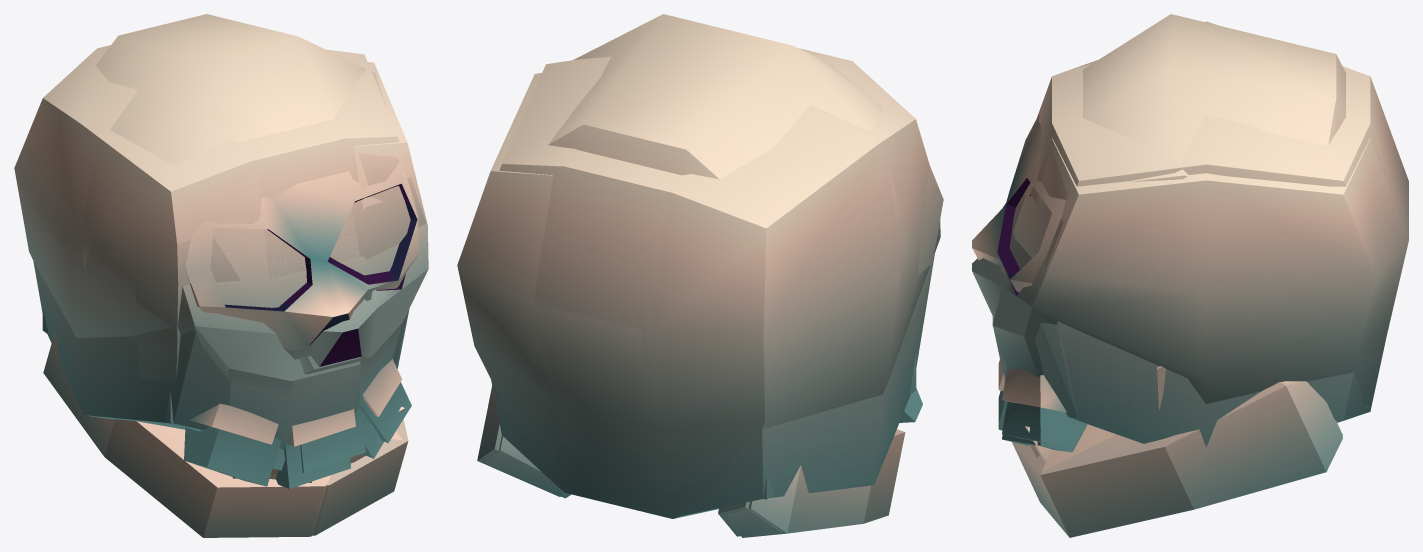
Rendered from SkullSteps.fbx.
3 renders of one model, left to right at view 1: azimuth 30°, elevation 25°; view 2: azimuth 150°, elevation 25°; view 3: azimuth 270°, elevation 25°, orthographic. The views are drawn at different scales.
Visible parts, largest first — view 1: pCube31, pCube33, pCube30, pCube27, pPipe2, pCube32, pPipe3; view 2: pCube31, pCube27, pCube33, pCube32, pCube30, pPipe2, pPipe3; view 3: pCube32, pCube27, pCube33, pPipe3, pCube30, pCube31, pPipe2.
Part boxes in pixels (x1,y1,x2,y2): pCube31: (14, 48, 384, 488); pCube33: (79, 14, 418, 446); pCube30: (33, 47, 407, 449); pCube27: (102, 45, 426, 381); pPipe2: (43, 332, 402, 537); pCube32: (273, 62, 428, 472); pPipe3: (232, 407, 408, 535); pCube31: (542, 60, 940, 518); pCube27: (490, 48, 943, 517); pCube33: (548, 14, 915, 294); pCube32: (457, 73, 643, 478); pCube30: (539, 63, 934, 515); pPipe2: (483, 429, 905, 537); pPipe3: (477, 386, 781, 536); pCube32: (972, 138, 1408, 447); pCube27: (1013, 70, 1408, 447); pCube33: (972, 14, 1345, 412); pPipe3: (1012, 381, 1342, 537); pCube30: (993, 190, 1408, 418); pCube31: (998, 21, 1408, 452); pPipe2: (1042, 381, 1342, 471).
Bounding box in the file's own units: 1.47 × 1.91 × 1.65.
